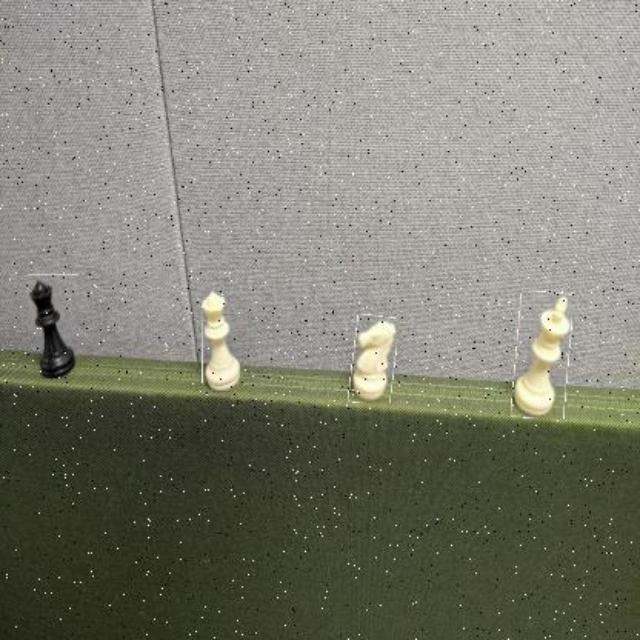black-queen: (28, 274, 80, 380)
white-king: (515, 292, 571, 418)
white-knight: (350, 314, 396, 403)
white-queen: (202, 286, 243, 393)
